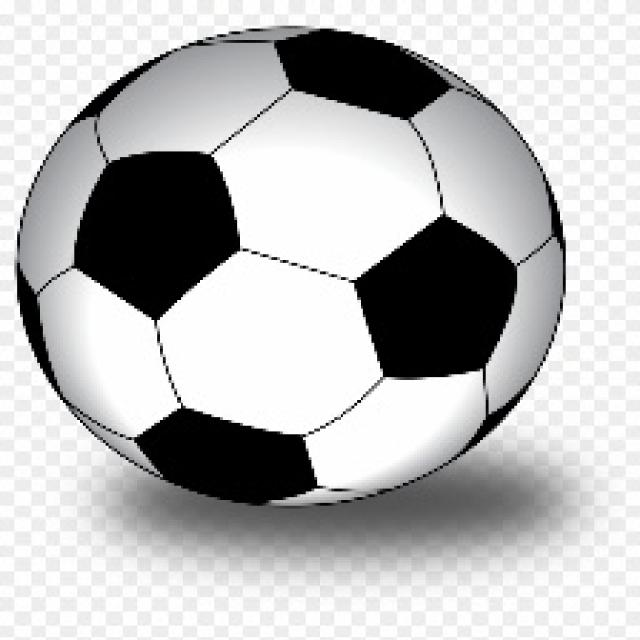ball: (23, 23, 574, 514)
